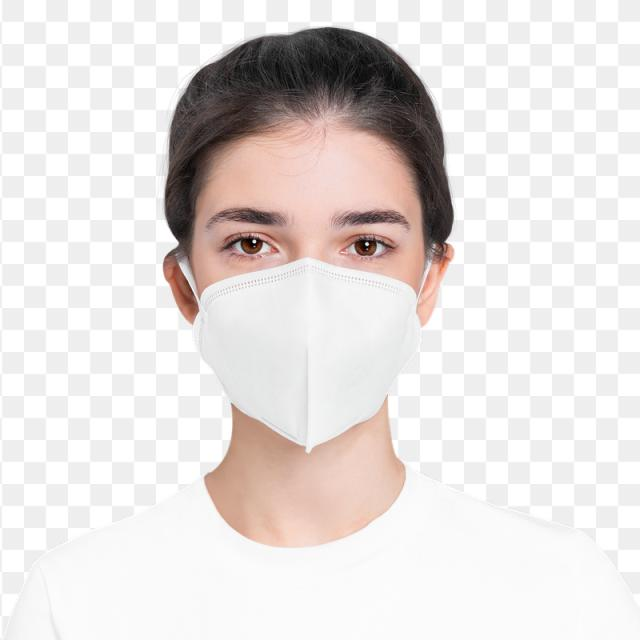adult: (106, 24, 500, 640)
